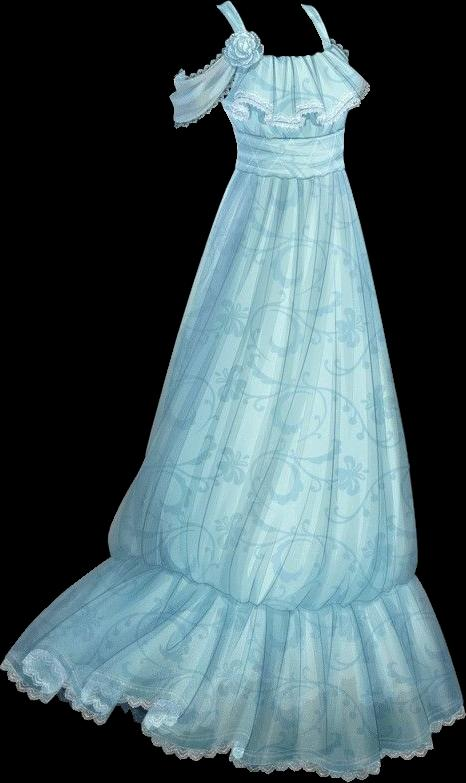Bodice: (216, 1, 369, 182)
Hemline: (2, 656, 465, 782)
Neckline: (225, 0, 327, 61), (232, 126, 344, 144)
Skirt: (1, 171, 465, 781)
Sleeve: (169, 24, 238, 126)
Sleeveline: (212, 29, 244, 105)
Waistline: (105, 551, 419, 609), (224, 84, 372, 127), (230, 165, 348, 187)
